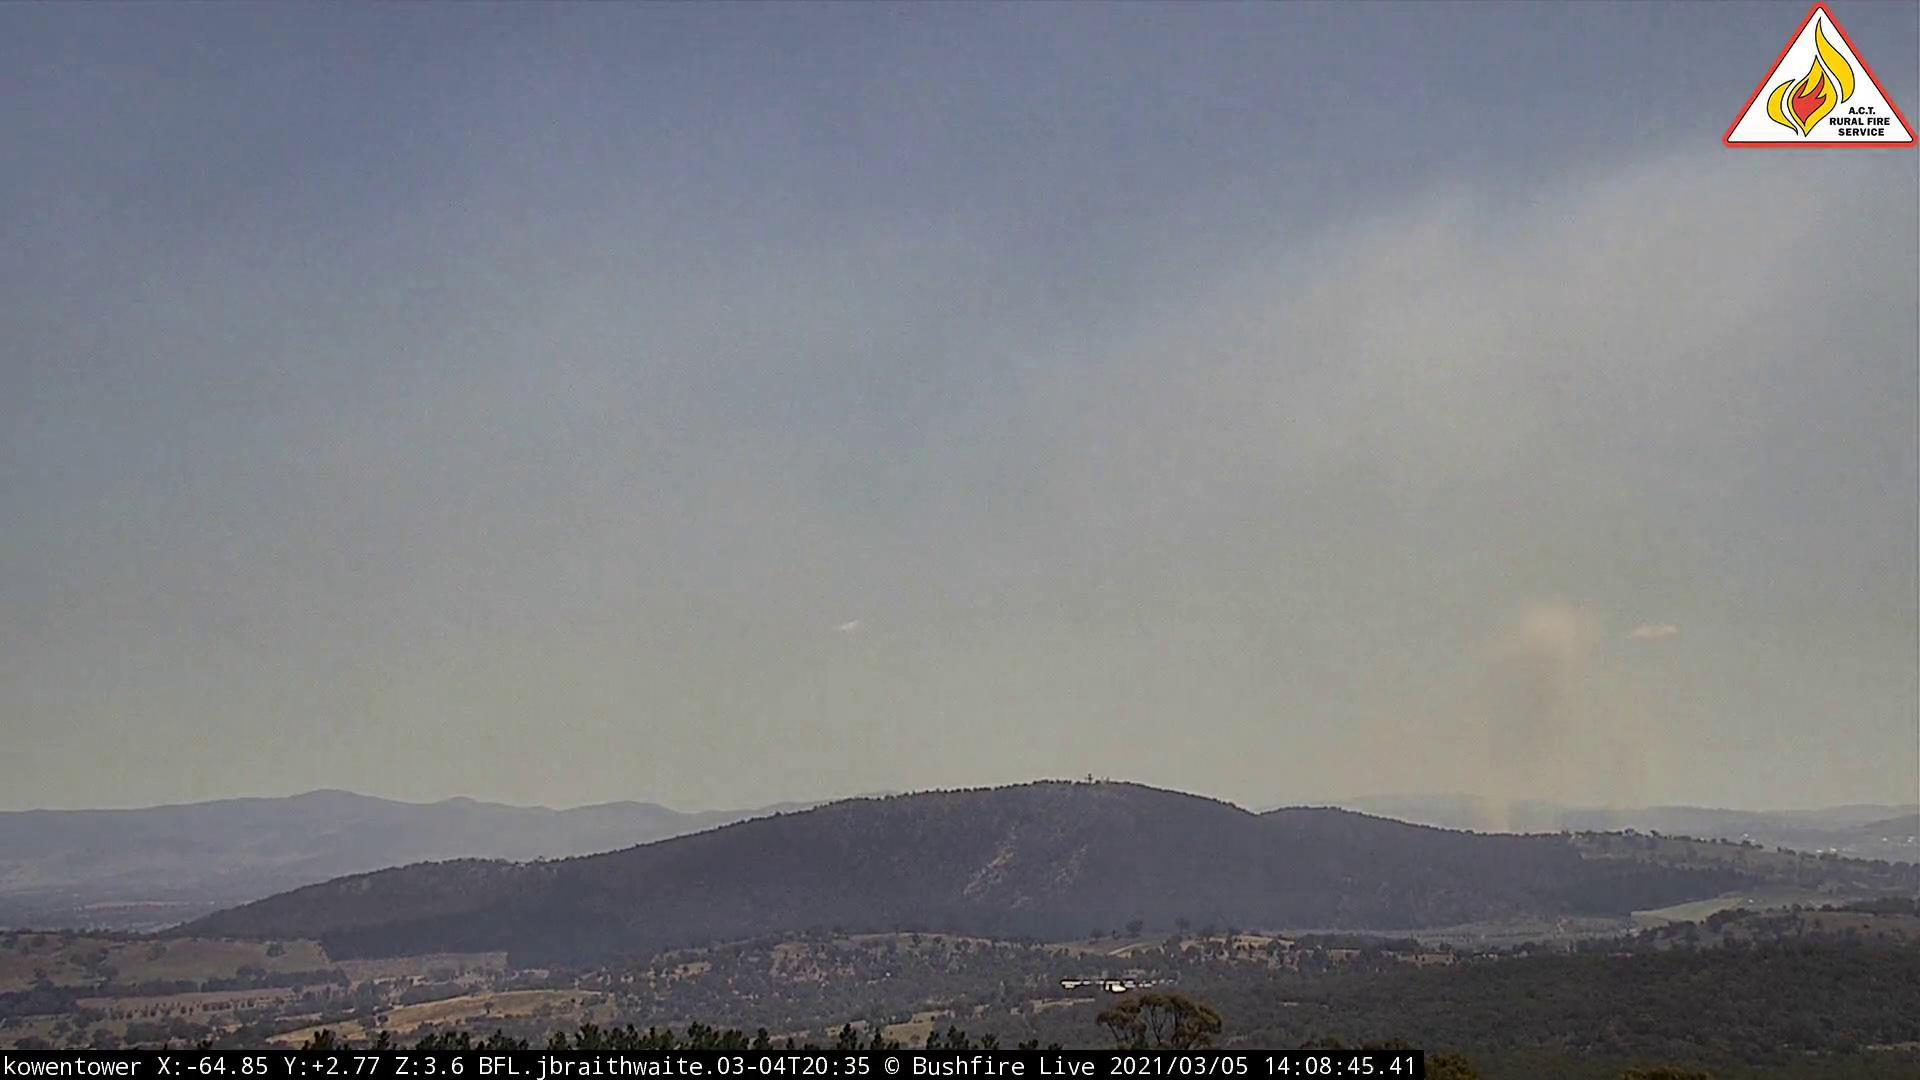Smoke: (1410, 555, 1676, 844)
